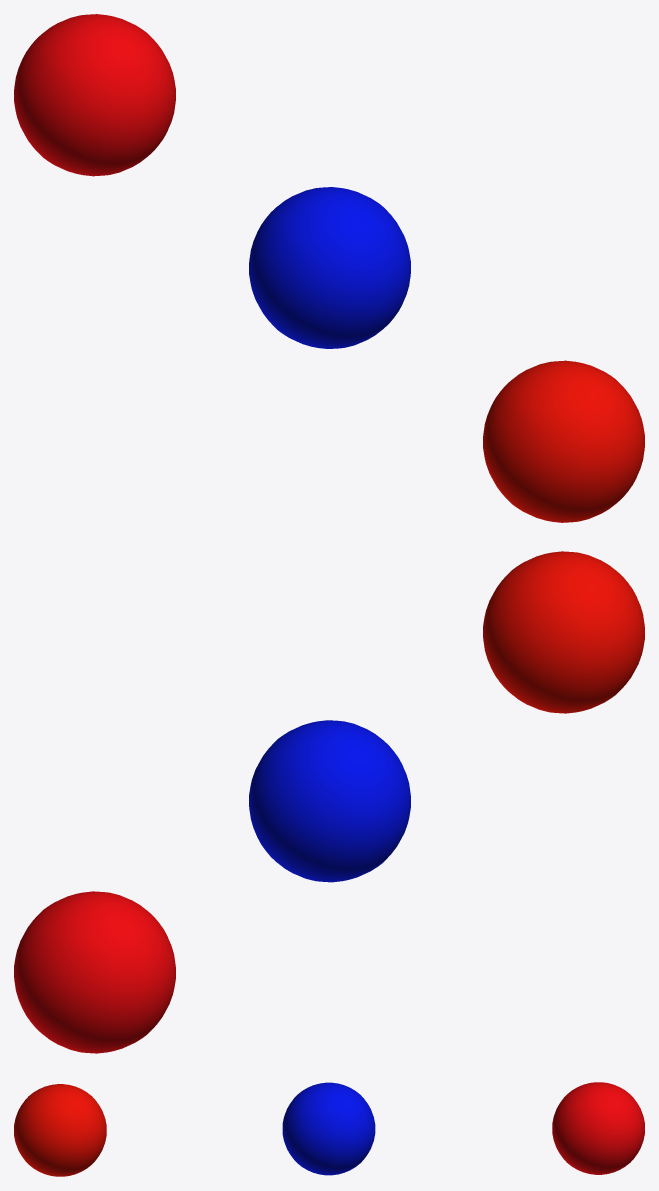
The model's file is Caso(+,-,+).glb.
The picture shows the model from 3 angles, top to bottom: view 1: azimuth 30°, elevation 25°; view 2: azimuth 150°, elevation 25°; view 3: azimuth 270°, elevation 25°; orthographic projection. The views are drawn at different scales.
Visible parts, largest first — view 1: Carga 2, Carga 3, Carga 1; view 2: Carga 2, Carga 3, Carga 1; view 3: Carga 2, Carga 1, Carga 3.
Part boxes in pixels (left/top/right/bottom): Carga 2: left=249, top=187, right=410, bottom=348; Carga 3: left=14, top=14, right=175, bottom=176; Carga 1: left=483, top=360, right=644, bottom=522; Carga 2: left=249, top=720, right=410, bottom=882; Carga 3: left=14, top=891, right=175, bottom=1053; Carga 1: left=483, top=551, right=644, bottom=713; Carga 2: left=282, top=1082, right=375, bottom=1175; Carga 1: left=14, top=1084, right=106, bottom=1176; Carga 3: left=552, top=1082, right=644, bottom=1174.
Bounding box in the file's own units: 3.44 × 3.52 × 23.44.
